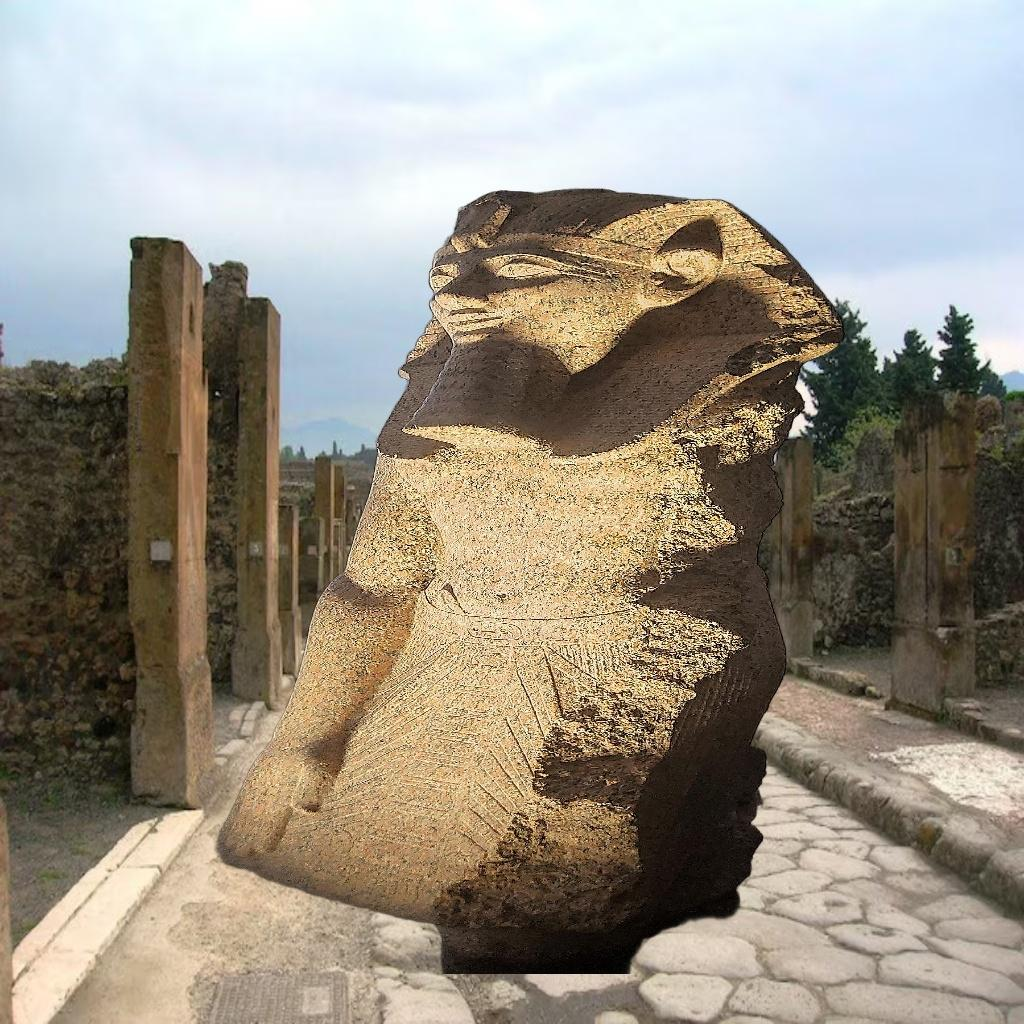Standing Statue of Thutmose III: (196, 185, 850, 974)
